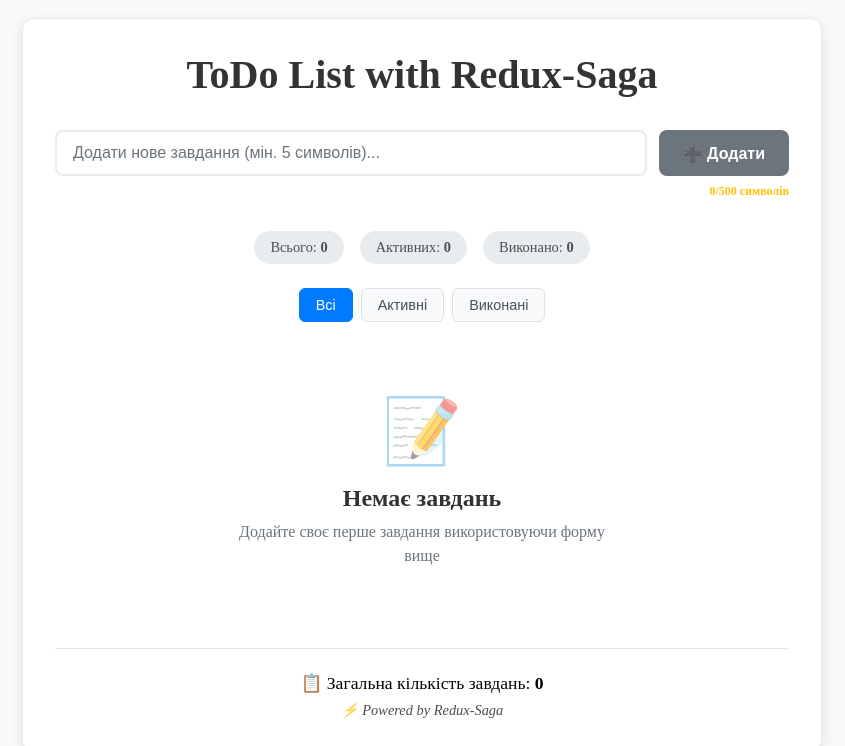
Test case: TODO Application Tests › 7. Character counter is displayed
Type "Test" into the field with placeholder "Додати нове завдання (мін. 5 символів)...". click: [351, 153]
box: [55,130,647,176]
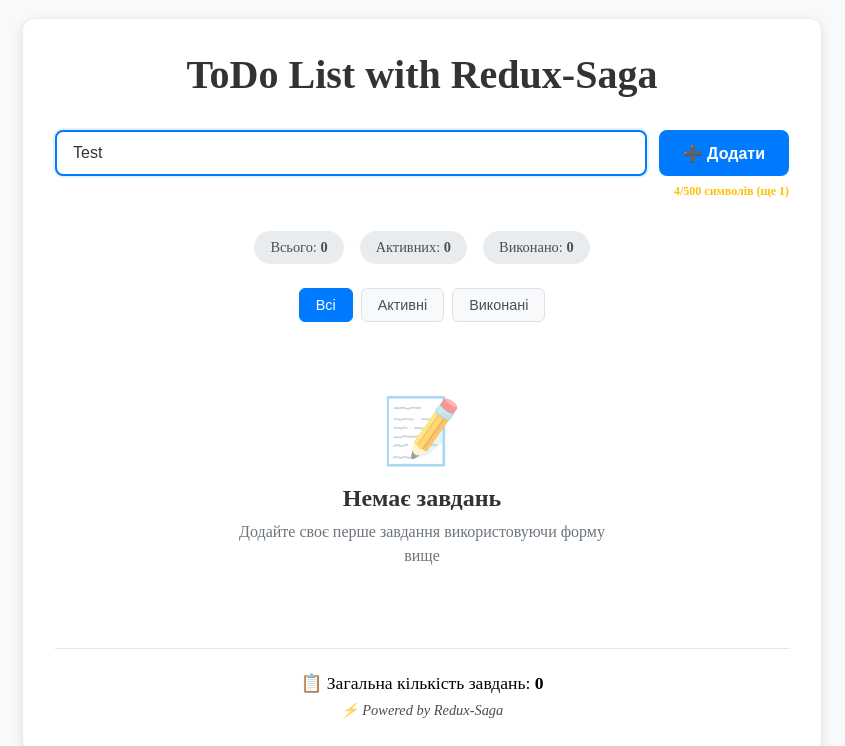
Expected: the text "4/500 символів (ще 1)" is shown, [674,184,789,198]
